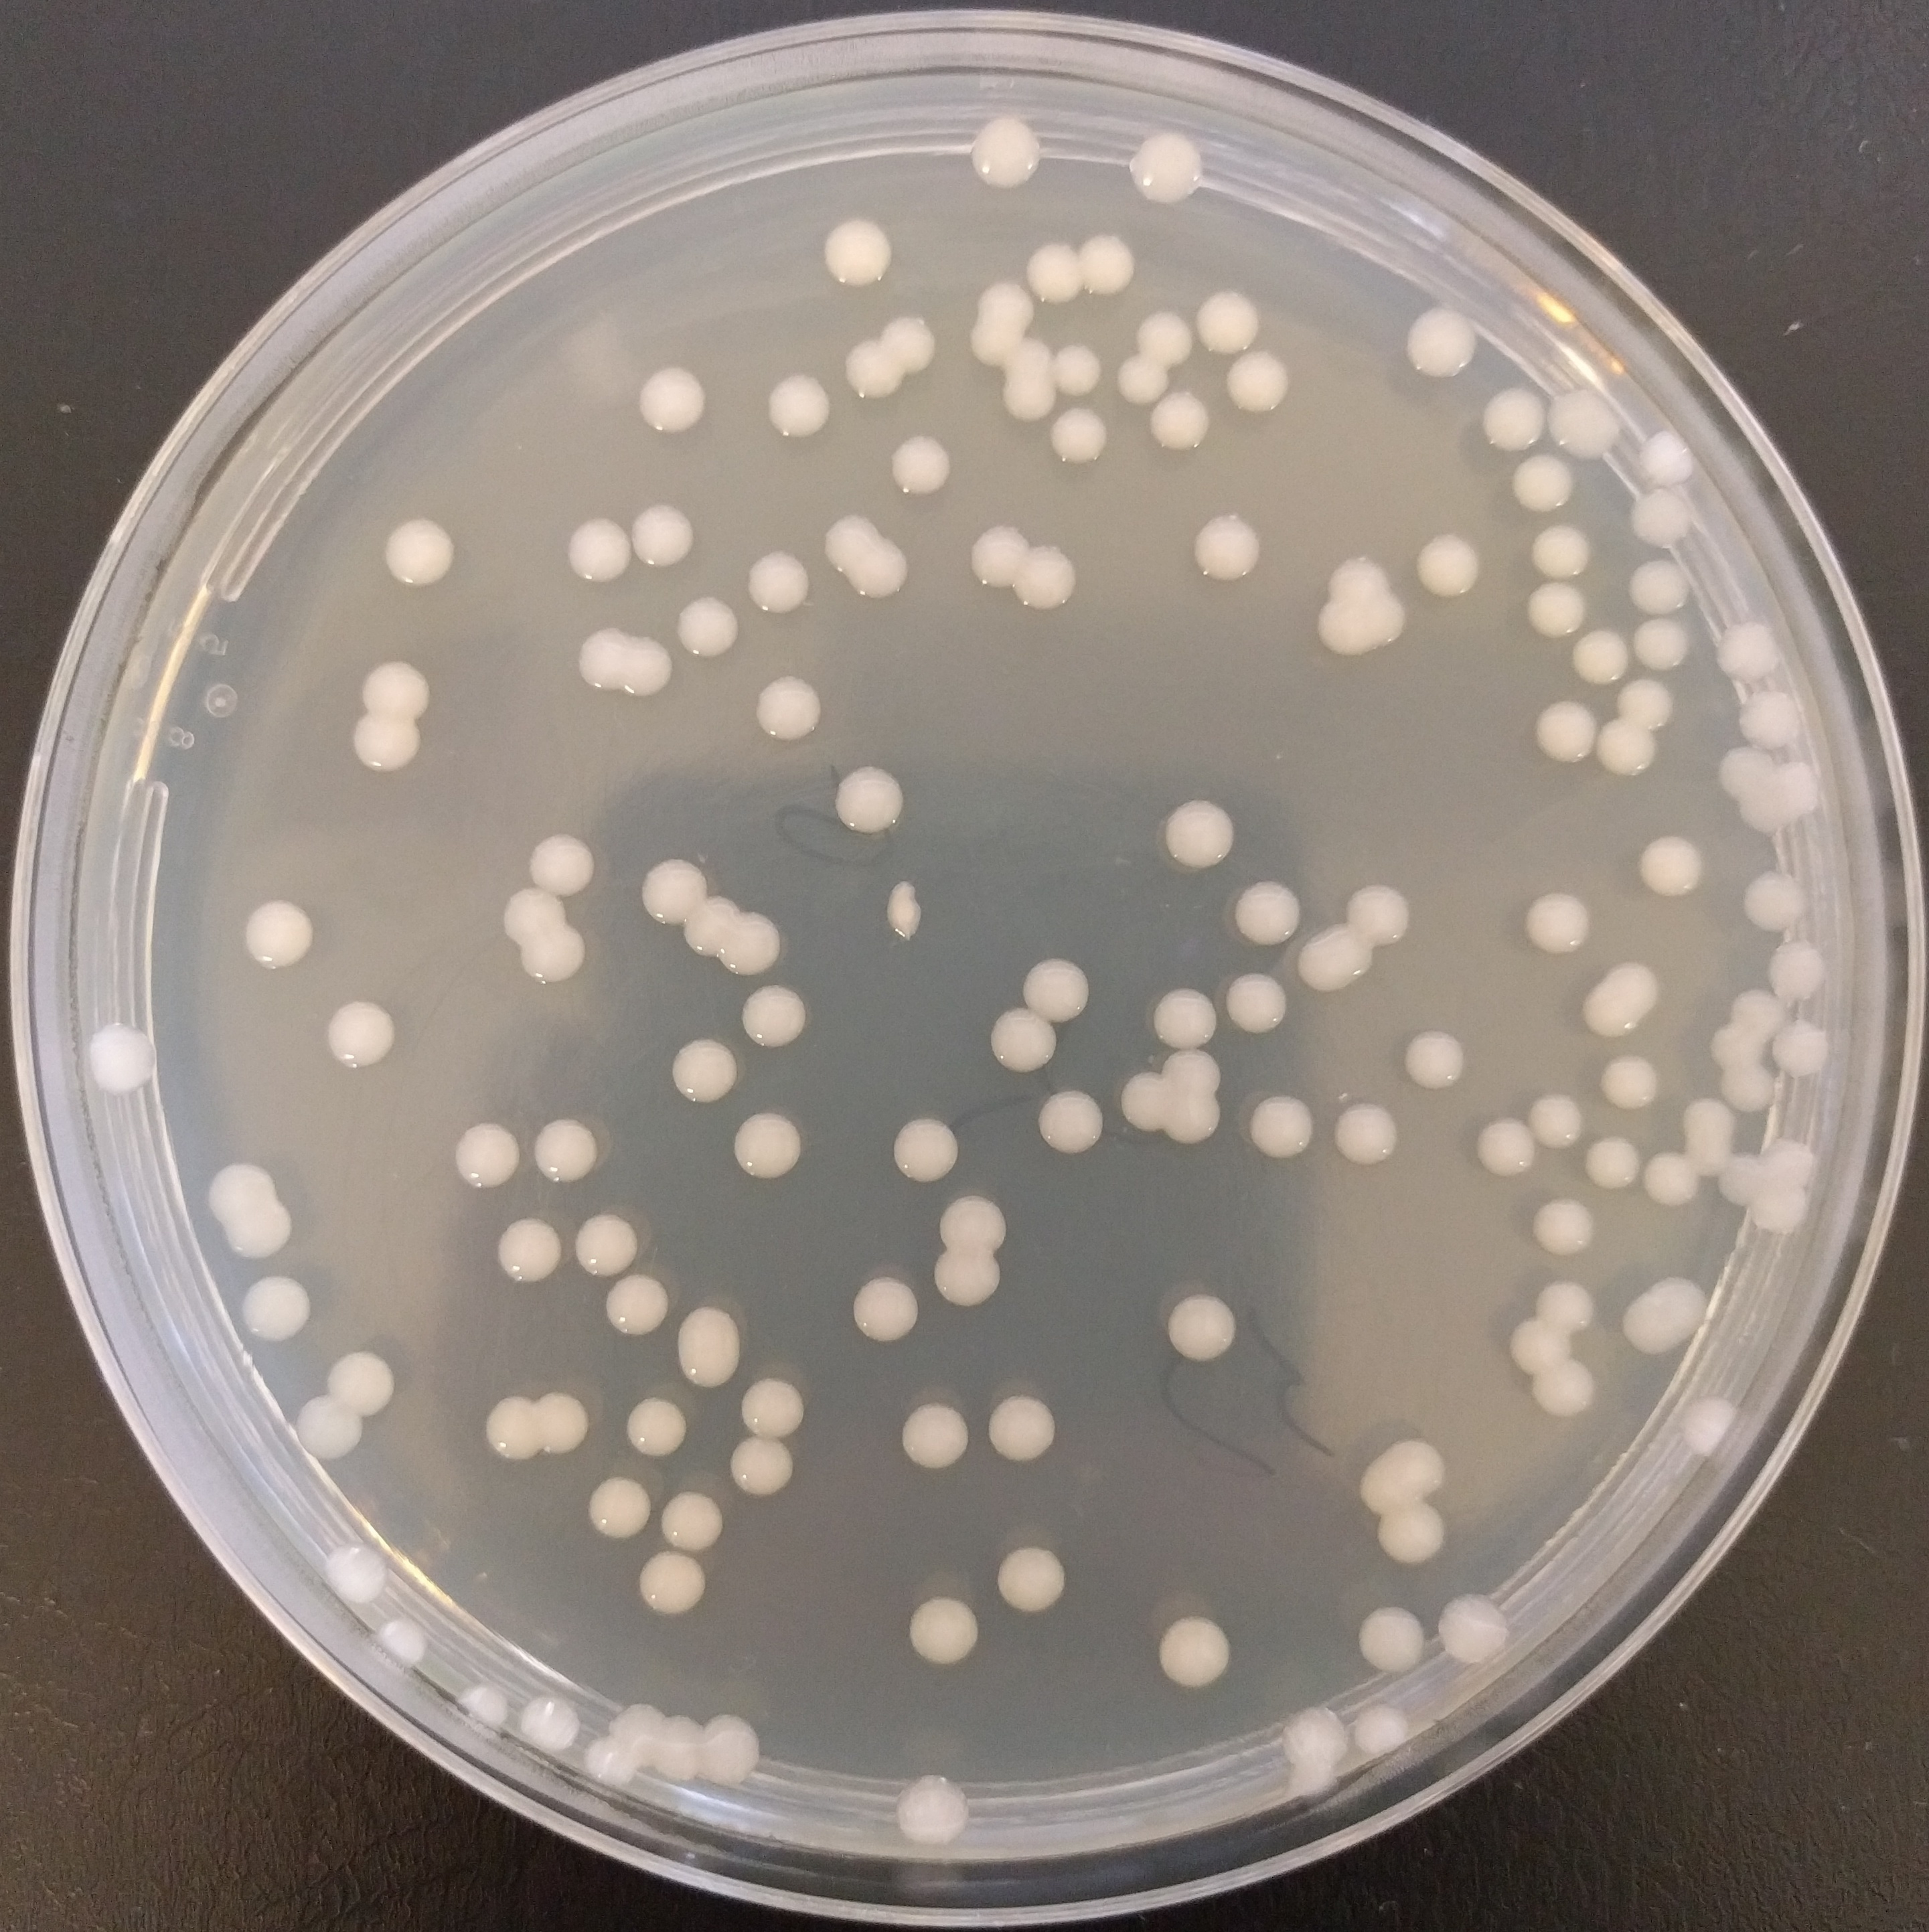sp13: (1616, 1272, 1719, 1362), (87, 1012, 180, 1093), (899, 1591, 987, 1676), (1351, 1598, 1431, 1687), (1434, 1584, 1514, 1672), (1355, 1436, 1447, 1510), (1159, 1286, 1242, 1367), (894, 1770, 975, 1851), (627, 1549, 715, 1623), (986, 1388, 1060, 1476), (631, 362, 712, 441), (1293, 922, 1376, 1000), (1154, 1614, 1235, 1692), (671, 1300, 740, 1390), (1125, 127, 1203, 207), (235, 1268, 316, 1344), (894, 1397, 977, 1471), (692, 1708, 767, 1791), (993, 1543, 1072, 1619), (1547, 376, 1622, 457), (828, 763, 906, 839), (1162, 796, 1240, 872), (820, 214, 894, 293), (1406, 304, 1486, 378), (1191, 507, 1270, 581), (380, 516, 459, 588), (321, 996, 401, 1068), (495, 1208, 565, 1289), (1411, 528, 1486, 604), (848, 1273, 922, 1349), (238, 897, 318, 968), (480, 1385, 542, 1475), (730, 1107, 804, 1181), (1019, 954, 1095, 1026), (1477, 380, 1547, 457), (1249, 1088, 1321, 1162), (738, 980, 813, 1053), (968, 115, 1044, 185), (1010, 540, 1079, 618), (625, 500, 698, 572), (666, 1031, 738, 1104), (1231, 874, 1302, 948), (323, 1531, 394, 1605), (717, 904, 786, 980), (323, 1349, 401, 1416), (751, 671, 816, 751), (924, 1247, 1005, 1310), (744, 547, 816, 618), (1535, 696, 1607, 766), (1638, 830, 1708, 902), (890, 1114, 963, 1185), (761, 371, 836, 440), (636, 857, 710, 925), (1713, 620, 1789, 687), (449, 1118, 516, 1194), (1373, 1503, 1450, 1568), (357, 655, 436, 719), (571, 623, 634, 703), (297, 1399, 369, 1468), (1521, 892, 1597, 957), (1470, 1107, 1535, 1183), (343, 713, 427, 772), (1733, 687, 1812, 749), (1131, 298, 1199, 369), (883, 427, 954, 496), (1761, 936, 1832, 1005), (620, 1395, 691, 1464), (1037, 1086, 1109, 1153), (571, 1210, 638, 1282), (1335, 1095, 1401, 1169), (677, 590, 740, 666), (986, 1010, 1062, 1074), (585, 1471, 648, 1547), (512, 925, 592, 985), (601, 1699, 669, 1768), (964, 523, 1032, 593), (1507, 447, 1577, 514), (565, 514, 632, 585), (1344, 881, 1415, 948), (1150, 985, 1221, 1053), (525, 830, 595, 897), (528, 1116, 595, 1187), (1403, 1024, 1468, 1097), (519, 1685, 583, 1759), (219, 1204, 297, 1264), (839, 336, 906, 404), (1742, 869, 1809, 938), (1510, 1314, 1585, 1376), (532, 1386, 592, 1462), (1148, 390, 1215, 457), (728, 1430, 795, 1498), (1226, 351, 1291, 420), (1676, 1393, 1740, 1464), (1279, 1702, 1351, 1764), (936, 1192, 1012, 1250), (205, 1160, 281, 1219), (1196, 286, 1263, 351), (1592, 713, 1659, 779), (574, 1732, 639, 1800), (1627, 555, 1698, 616), (1629, 611, 1694, 676), (495, 888, 572, 943), (1627, 487, 1692, 551), (602, 1270, 666, 1335), (659, 1491, 726, 1552), (1528, 1197, 1597, 1257), (657, 1709, 703, 1800), (1526, 583, 1597, 641), (625, 632, 678, 710), (1530, 1362, 1602, 1418), (1081, 230, 1136, 304), (738, 1376, 804, 1438), (851, 537, 912, 604), (1597, 1053, 1664, 1113), (1770, 1019, 1837, 1079), (1742, 1183, 1812, 1240), (1115, 1067, 1169, 1139), (1569, 625, 1632, 687), (1312, 599, 1376, 660), (1049, 404, 1115, 464), (1226, 973, 1291, 1033), (1023, 237, 1081, 304), (821, 507, 880, 574), (1526, 523, 1593, 581), (680, 901, 744, 961), (1576, 980, 1638, 1040), (1581, 1134, 1641, 1196), (1351, 1706, 1417, 1762), (1318, 551, 1397, 597), (1532, 1275, 1602, 1326), (1632, 429, 1692, 487), (1526, 1091, 1586, 1150), (1646, 1150, 1705, 1210), (371, 1611, 427, 1672), (1154, 1045, 1226, 1093), (1712, 1067, 1784, 1114), (1710, 1019, 1772, 1074), (1724, 984, 1788, 1037), (1162, 1097, 1228, 1148), (1712, 749, 1779, 798), (1000, 373, 1058, 429), (881, 313, 938, 371), (454, 1678, 509, 1738), (972, 279, 1040, 327), (1768, 1130, 1828, 1181), (1775, 758, 1825, 819), (883, 872, 926, 943), (1602, 962, 1662, 1012), (1676, 1097, 1740, 1143), (1123, 357, 1178, 410), (966, 318, 1023, 369), (1616, 682, 1675, 731), (1721, 1148, 1770, 1206), (1053, 339, 1104, 392), (1740, 791, 1793, 839), (1682, 1141, 1729, 1183), (1010, 328, 1046, 383), (1373, 595, 1406, 650)
